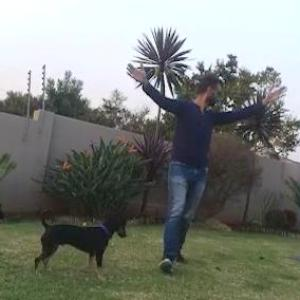takeoff: (122, 56, 280, 254)
